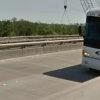Bus: (82, 7, 99, 75)
